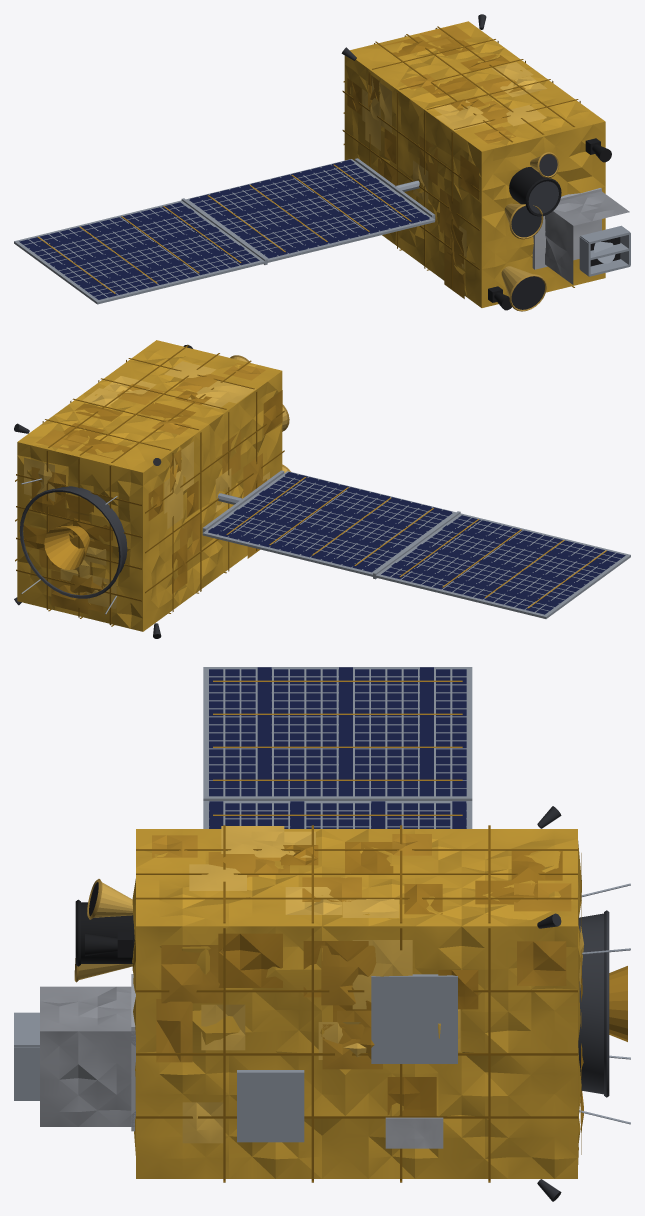
3 views of the same model, one above another, from view 1: azimuth 30°, elevation 25°; view 2: azimuth 150°, elevation 25°; view 3: azimuth 270°, elevation 25° (orthographic). The views are drawn at different scales.
Parts seen in each view (by area): view 1: foil, solar-panel, body; view 2: foil, solar-panel, body; view 3: foil, body, solar-panel.
Boxes of the visible parts, x1,y1,x2,y2 form: foil: [37, 21, 629, 307]; solar-panel: [19, 159, 429, 299]; body: [14, 14, 630, 311]; foil: [15, 340, 606, 631]; solar-panel: [208, 472, 625, 614]; body: [14, 344, 630, 638]; foil: [40, 680, 627, 1182]; body: [14, 667, 630, 1201]; solar-panel: [209, 667, 466, 828].
Size of the model in its own units: 9.65 by 3.3 by 6.42.
